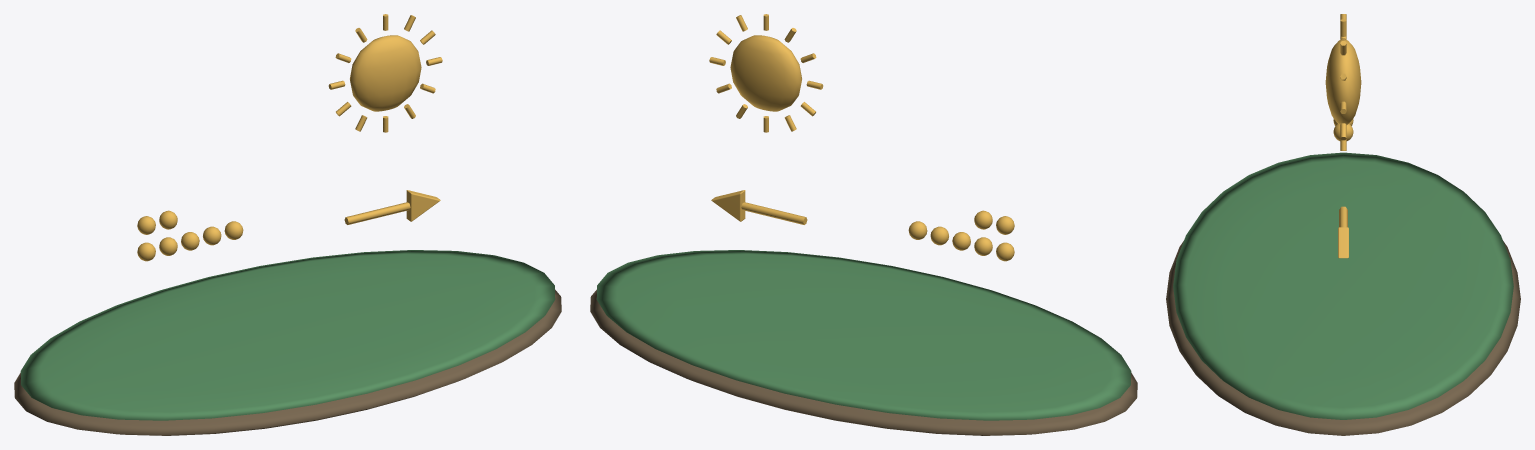
The model's file is complete-second-seven-small-east.glb.
The picture shows the model from 3 angles, left to right: view 1: azimuth 30°, elevation 25°; view 2: azimuth 150°, elevation 25°; view 3: azimuth 270°, elevation 25°; orthographic projection. The views are drawn at different scales.
Parts seen in each view (by area): view 1: complete-second-seven-small-east_surface_01, complete-second-seven-small-east_surface_00, complete-second-seven-small-east_surface_02; view 2: complete-second-seven-small-east_surface_01, complete-second-seven-small-east_surface_00, complete-second-seven-small-east_surface_02; view 3: complete-second-seven-small-east_surface_01, complete-second-seven-small-east_surface_00, complete-second-seven-small-east_surface_02.
Boxes of the visible parts, x1=… form: complete-second-seven-small-east_surface_01: x1=20, y1=250, x2=555, y2=420; complete-second-seven-small-east_surface_00: x1=14, y1=289, x2=561, y2=435; complete-second-seven-small-east_surface_02: x1=137, y1=14, x2=442, y2=261; complete-second-seven-small-east_surface_01: x1=596, y1=250, x2=1131, y2=420; complete-second-seven-small-east_surface_00: x1=590, y1=289, x2=1137, y2=435; complete-second-seven-small-east_surface_02: x1=709, y1=14, x2=1014, y2=261; complete-second-seven-small-east_surface_01: x1=1173, y1=152, x2=1513, y2=419; complete-second-seven-small-east_surface_00: x1=1166, y1=241, x2=1520, y2=435; complete-second-seven-small-east_surface_02: x1=1325, y1=14, x2=1361, y2=258.
Bounding box in the file's own units: 4.56 × 2.69 × 2.5.
